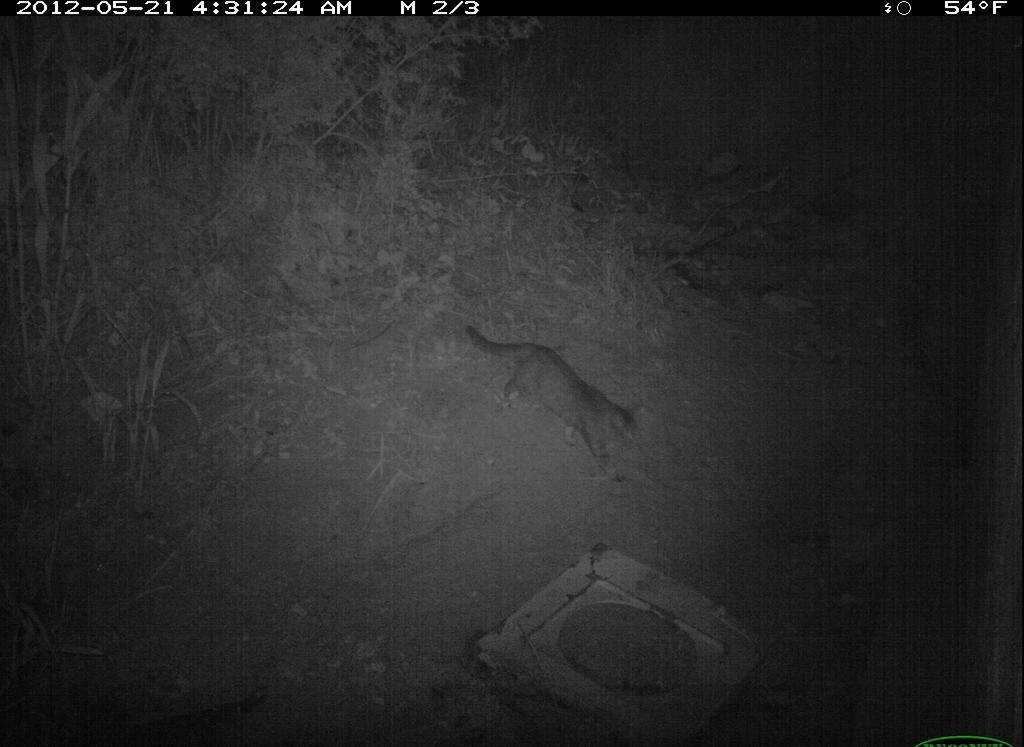cat: (461, 321, 678, 484)
